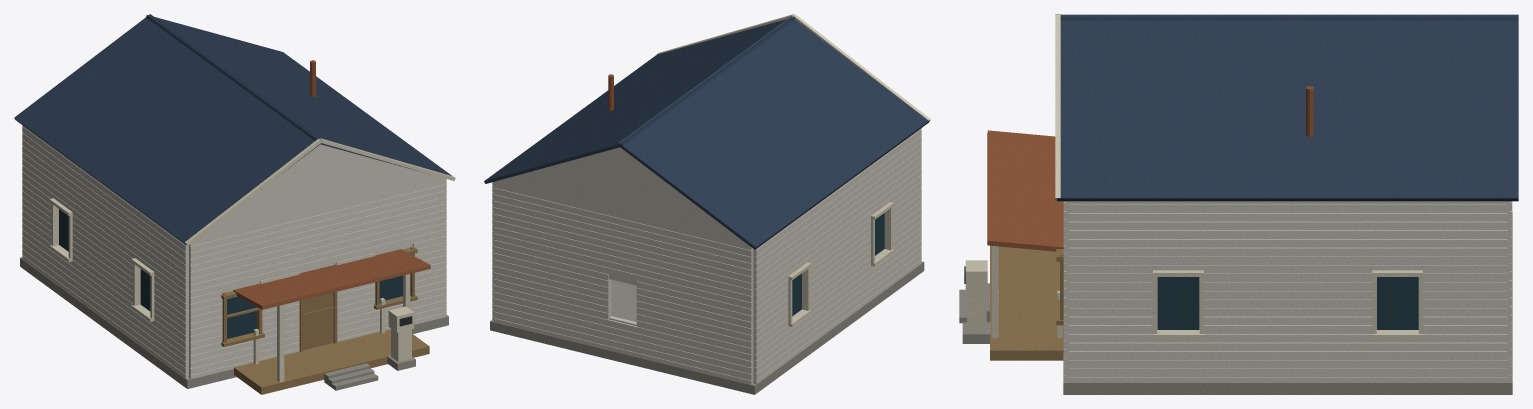
File: RUSTICB2_lod2.glb
3 views of the same model, side by side, from view 1: azimuth 30°, elevation 25°; view 2: azimuth 150°, elevation 25°; view 3: azimuth 270°, elevation 25° (orthographic). The views are drawn at different scales.
Parts seen in each view (by area): view 1: RUSTICB2_LOD2; view 2: RUSTICB2_LOD2; view 3: RUSTICB2_LOD2.
Part boxes in pixels (x1,y1,x2,y2): RUSTICB2_LOD2: (14, 14, 455, 394); RUSTICB2_LOD2: (484, 14, 930, 394); RUSTICB2_LOD2: (959, 14, 1518, 394).
Size of the model in its own units: 9.51 by 7.42 by 12.76.
11 materials, 9 textured.
